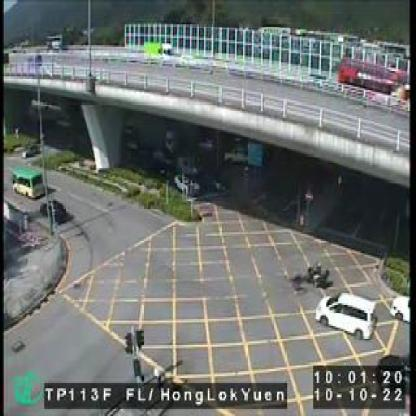Bus: (338, 48, 406, 113)
Car: (315, 292, 380, 340)
Minibus: (11, 166, 45, 199)
